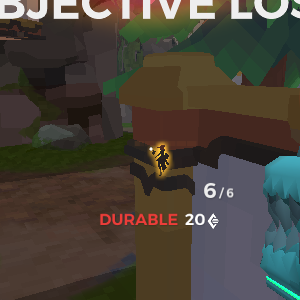model: (152, 141, 172, 177)
